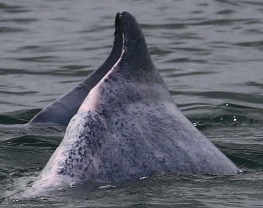fin: (9, 7, 252, 195)
